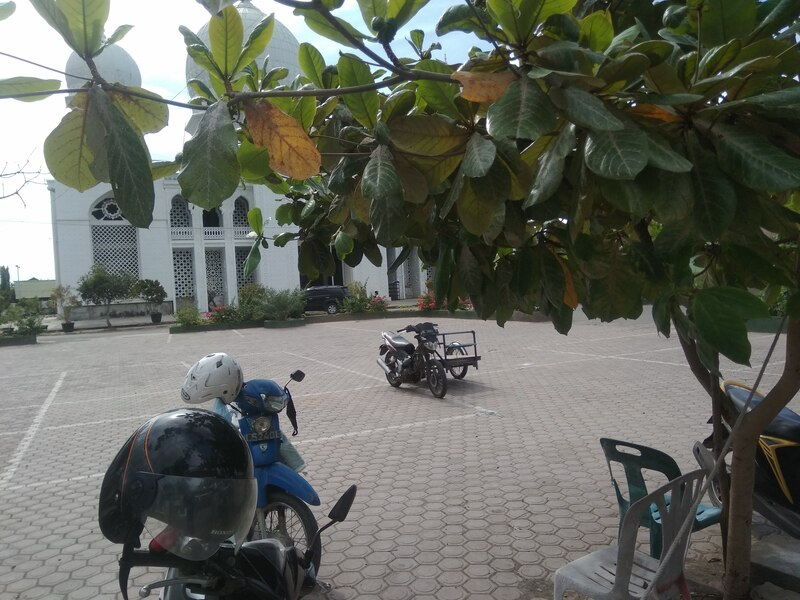becak barang: (373, 317, 486, 403)
